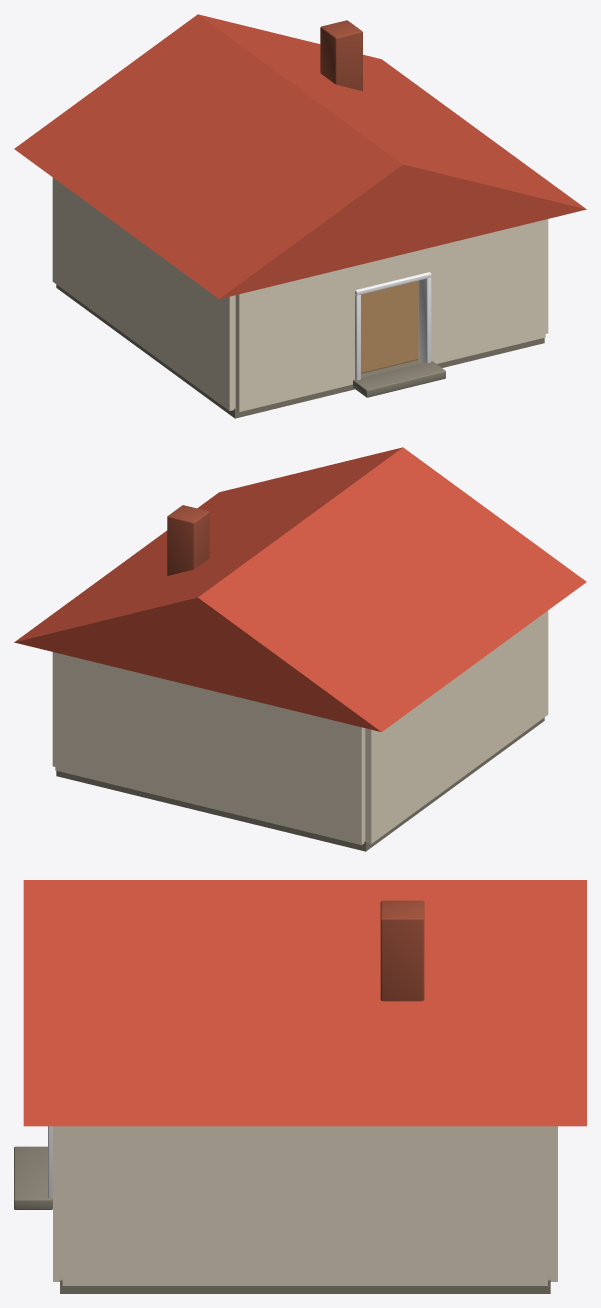
File: casa.glb
The picture shows the model from 3 angles, top to bottom: view 1: azimuth 30°, elevation 25°; view 2: azimuth 150°, elevation 25°; view 3: azimuth 270°, elevation 25°; orthographic projection. The views are drawn at different scales.
Parts seen in each view (by area): view 1: Tejado, ParedIzq, FrenteI, FrenteD, PisoCasa, Chimenea, Zocalo, Escalon, Dintel, Marco1.15; view 2: Tejado, ParedFondo, ParedIzq, Zocalo, Chimenea; view 3: Tejado, ParedDer, Chimenea, Zocalo, Escalon, ParedFondo, FrenteD.
Boxes of the visible parts, bbox=[...] form: Tejado: bbox=[14, 14, 586, 298]; ParedIzq: bbox=[52, 177, 235, 410]; FrenteI: bbox=[235, 265, 358, 412]; FrenteD: bbox=[426, 219, 545, 363]; PisoCasa: bbox=[361, 281, 418, 373]; Chimenea: bbox=[320, 20, 362, 91]; Zocalo: bbox=[56, 284, 544, 418]; Escalon: bbox=[353, 361, 445, 397]; Dintel: bbox=[358, 249, 426, 288]; Marco1.15: bbox=[418, 277, 431, 363]; Tejado: bbox=[14, 447, 586, 731]; ParedFondo: bbox=[55, 652, 365, 845]; ParedIzq: bbox=[365, 610, 548, 843]; Zocalo: bbox=[56, 717, 544, 851]; Chimenea: bbox=[167, 505, 209, 575]; Tejado: bbox=[23, 880, 586, 1126]; ParedDer: bbox=[62, 1126, 547, 1285]; Chimenea: bbox=[380, 900, 424, 1001]; Zocalo: bbox=[60, 1279, 550, 1293]; Escalon: bbox=[14, 1146, 52, 1209]; ParedFondo: bbox=[548, 1126, 557, 1281]; FrenteD: bbox=[53, 1126, 62, 1281].
Size of the model in its own units: 12 by 7.55 by 11.8.
